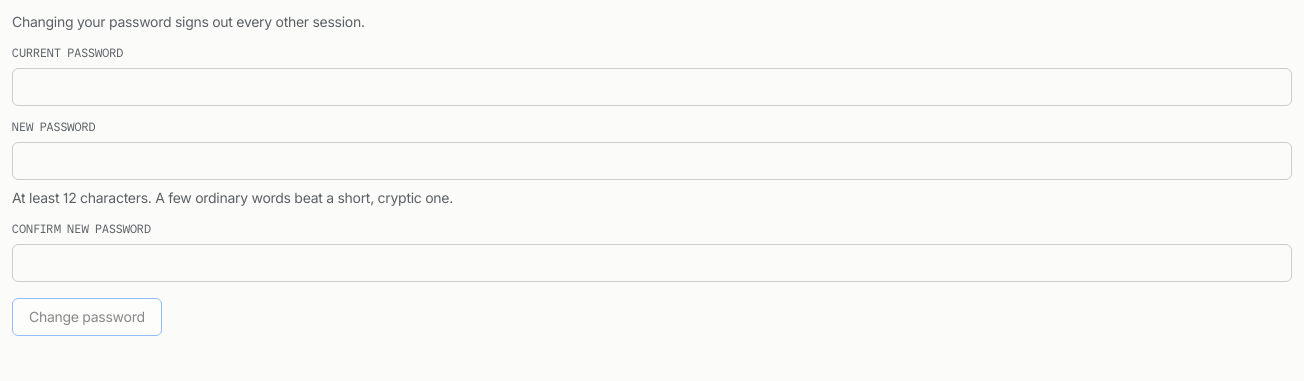
Scenario: renders real HTTP 400 rejections and only expires genuinely unauthorized sessions
The width and height of the screenshot is (1304, 381).
Step 1. Type "old passphrase" into the password field labelled "Current password" → (652, 87), box [12,68,1292,106]
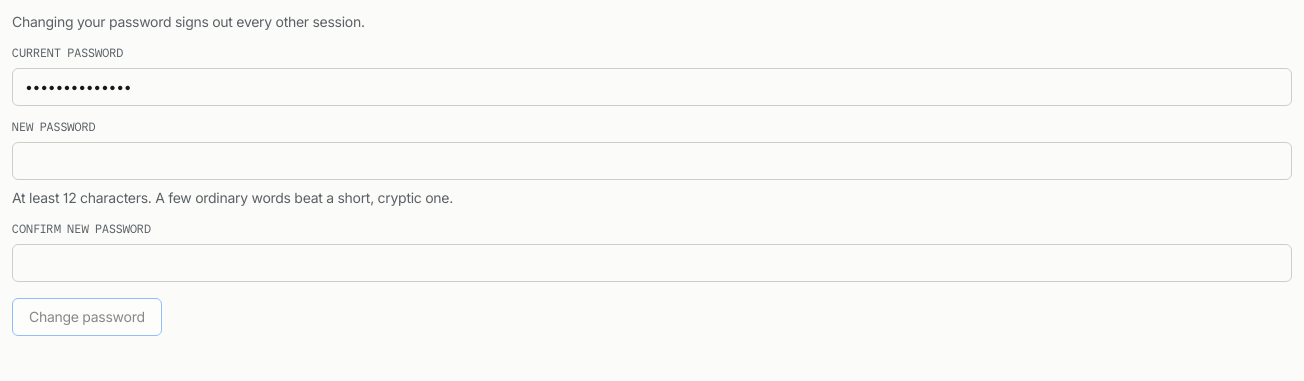
Step 2. Type "a fresh long passphrase" into the password field labelled "New password" → (652, 161), box [12,142,1292,180]
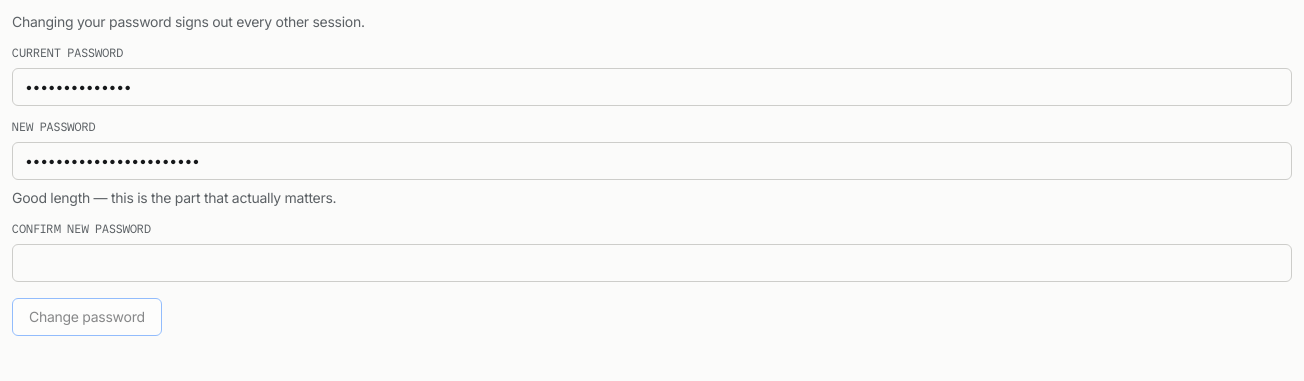
Step 3. Type "a fresh long passphrase" into the password field labelled "Confirm new password" → (652, 263), box [12,244,1292,282]
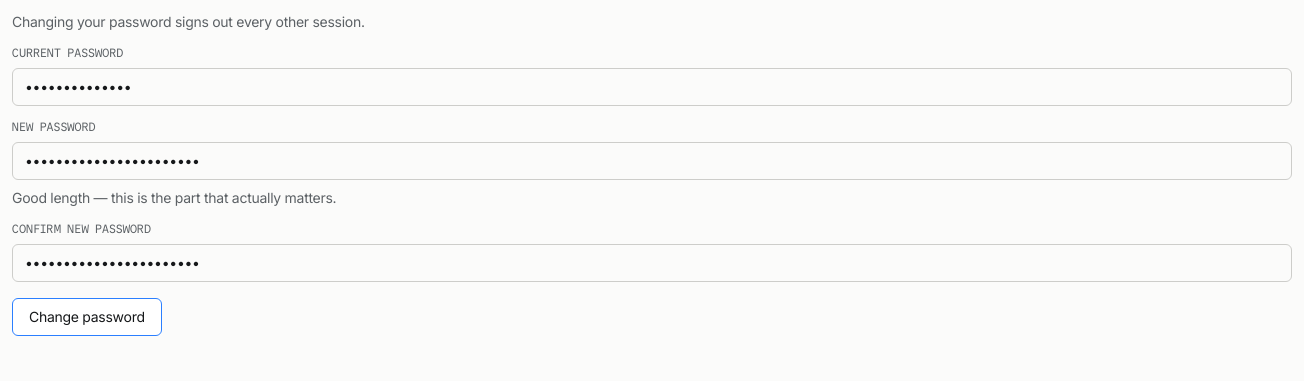
Step 4. Click the button "Change password" → (87, 317), box [12,298,162,336]
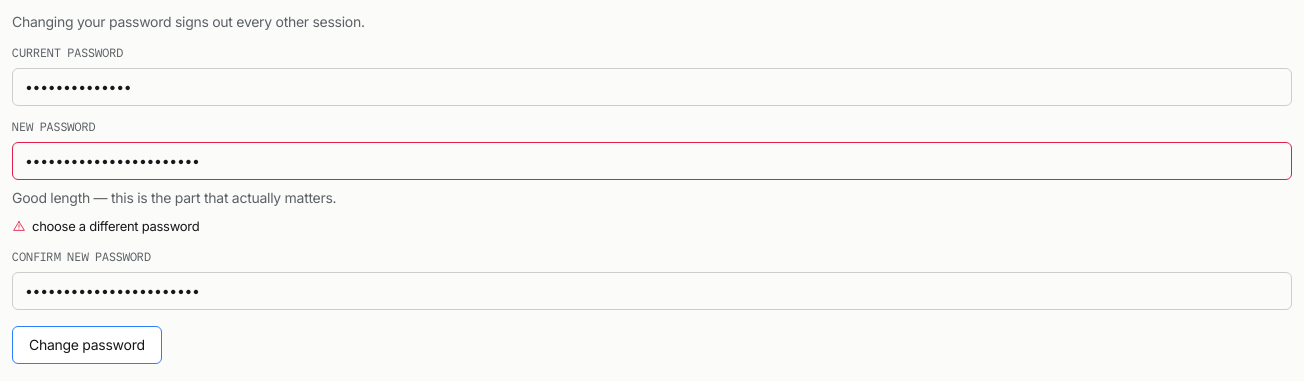
Result: the button is enabled at [12,326,162,364]
Result: the message reads "choose a different password" at [32,218,199,234]
